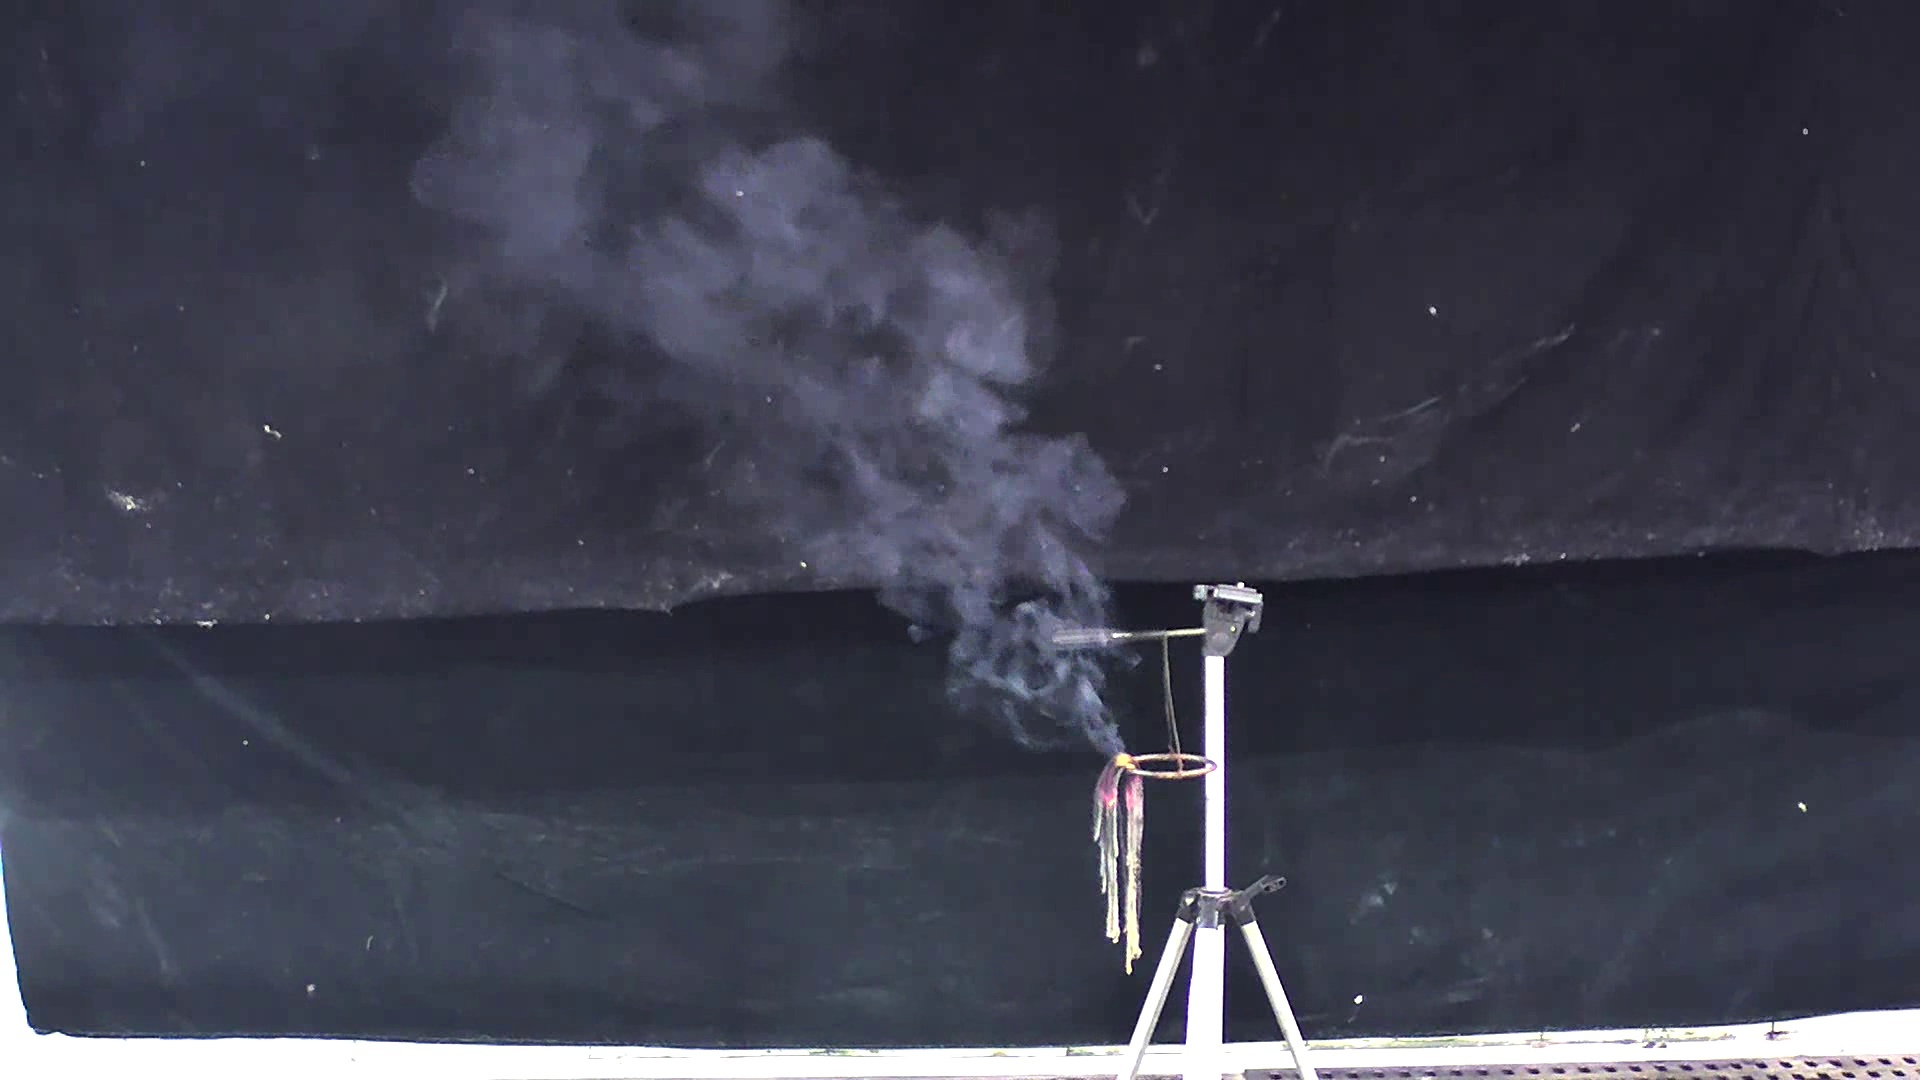smoke: (398, 16, 1125, 770)
